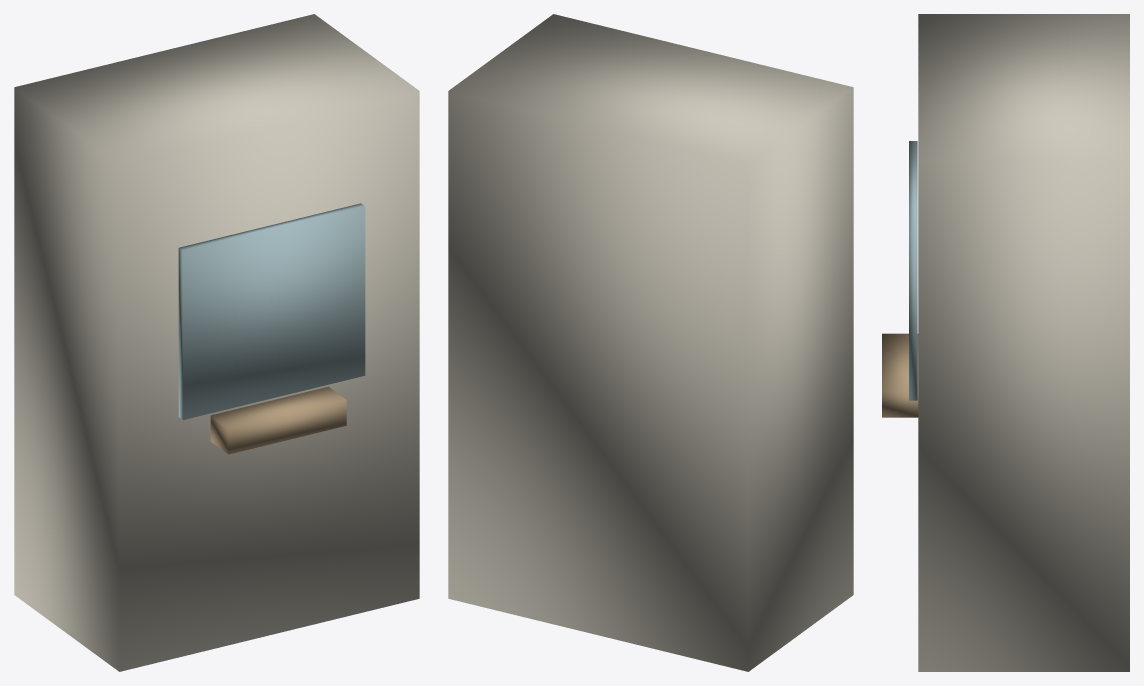
Rendered from ticket_booth__tall.glb.
3 views of the same model, side by side, from view 1: azimuth 30°, elevation 25°; view 2: azimuth 150°, elevation 25°; view 3: azimuth 270°, elevation 25° (orthographic).
Visible parts, largest first — view 1: world; view 2: world; view 3: world.
Part boxes in pixels (left/top/right/bottom): world: left=14, top=14, right=419, bottom=671; world: left=448, top=14, right=853, bottom=671; world: left=882, top=14, right=1129, bottom=671.
Size of the model in its own units: 1.4 by 2.26 by 0.995.
